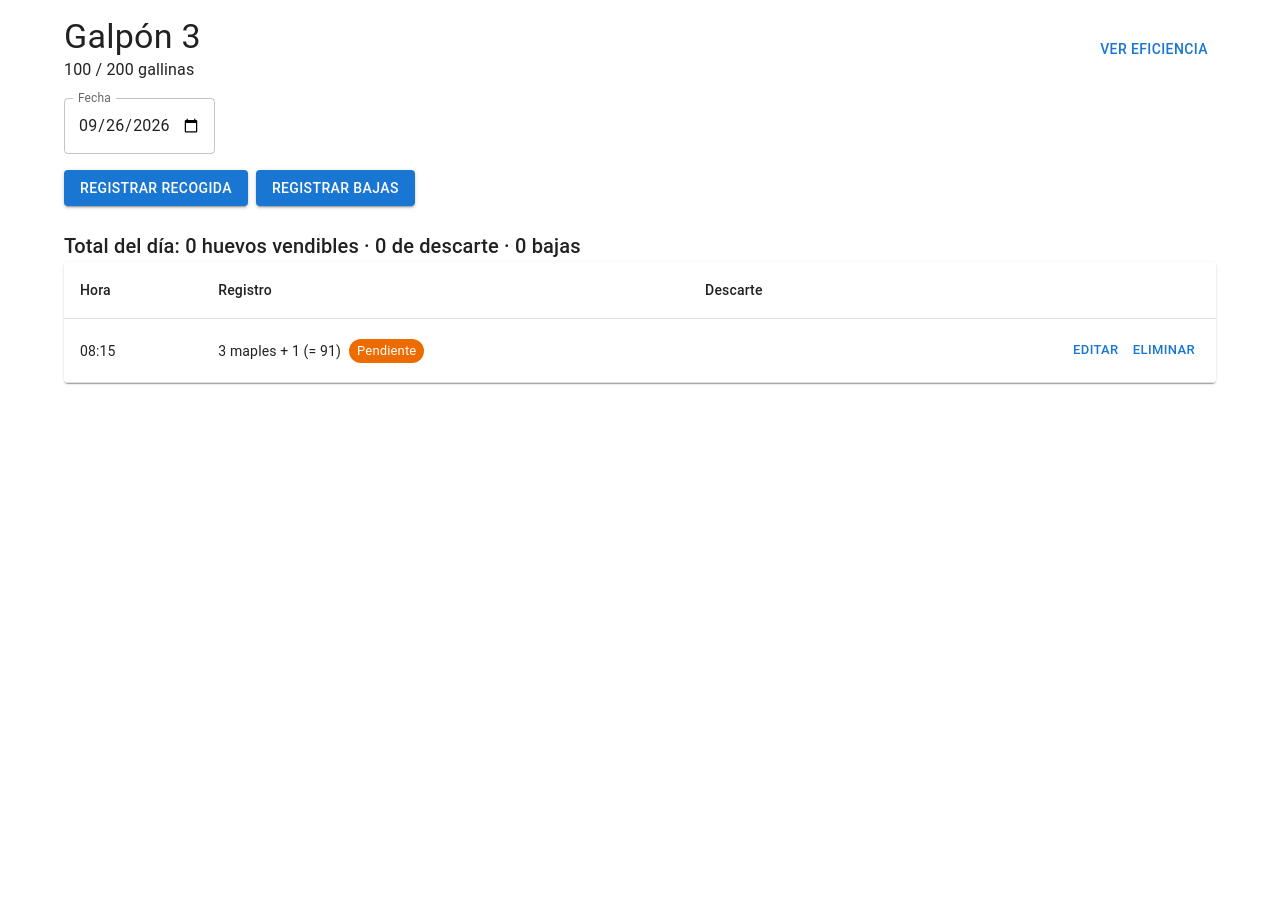
Test: GalponPage con registros pendientes › muestra la operación encolada con la etiqueta Pendiente y permite editarla
Check: the text "Pendiente" is shown, box [357, 343, 416, 358]
Check: the text "3 maples + 1 (= 91)" is shown, box [218, 343, 341, 359]
Click the button "Editar". click: (1096, 351)
box: [1064, 336, 1128, 366]
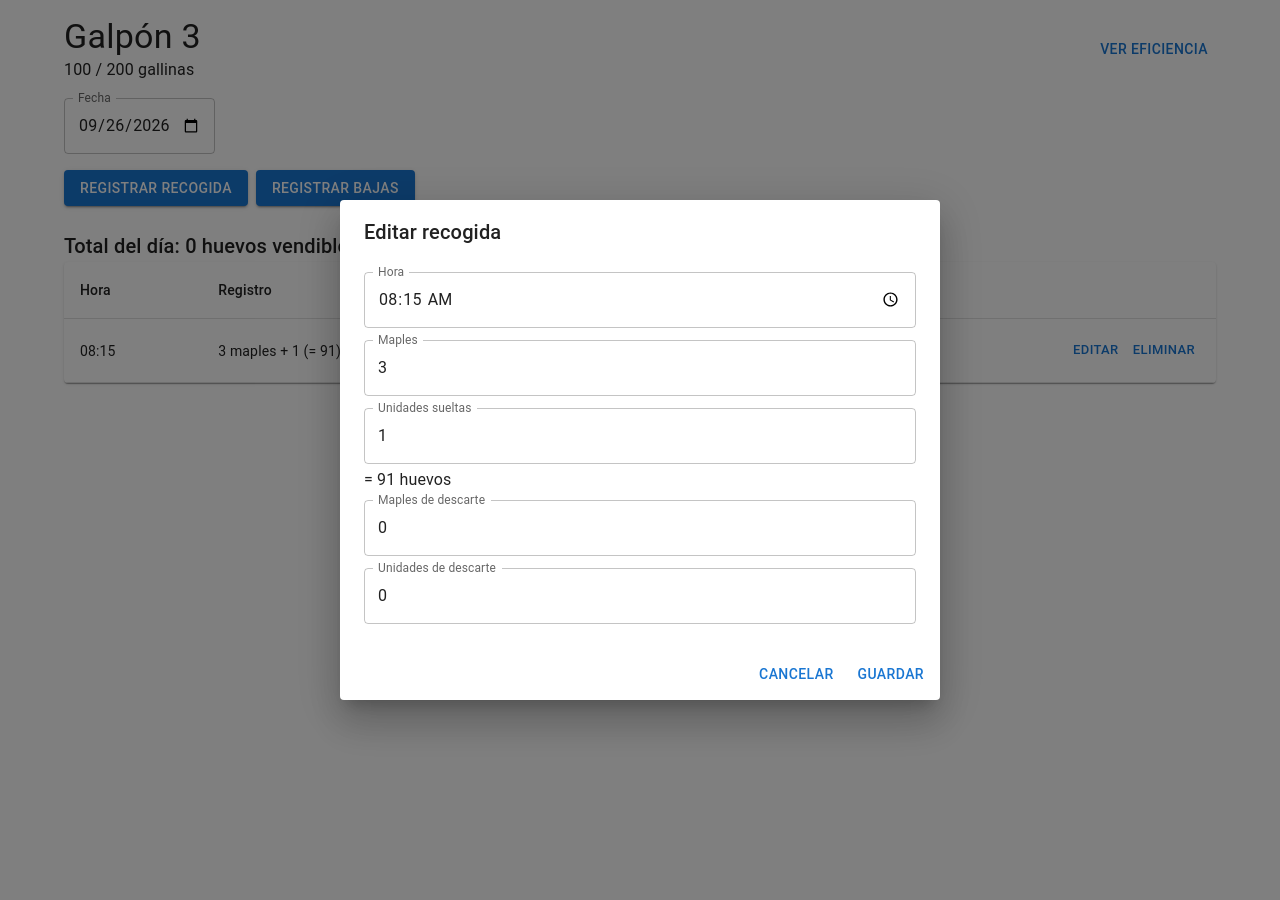
Check: the heading "Editar recogida" is shown, box [364, 220, 501, 244]
Check: the field labelled "Maples" holds "3", box [364, 340, 916, 396]
